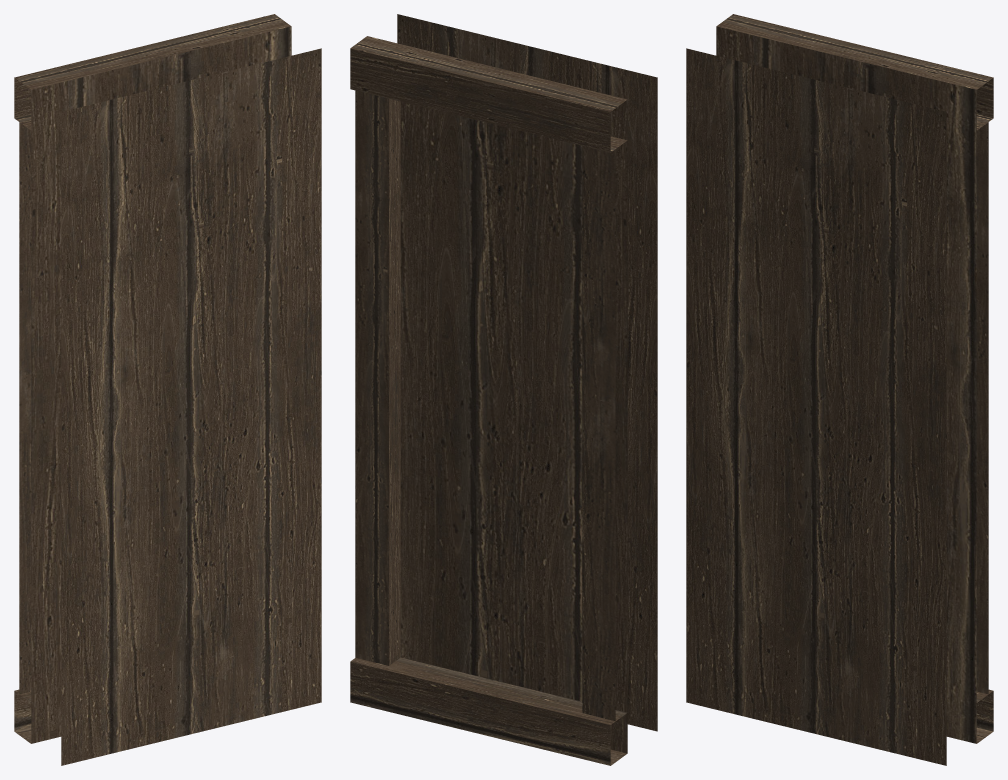
File: ARC1010288.fbx
The picture shows the model from 3 angles, left to right: view 1: azimuth 30°, elevation 25°; view 2: azimuth 150°, elevation 25°; view 3: azimuth 330°, elevation 25°; orthographic projection.
Visible parts, largest first — view 1: smARC1010288; view 2: smARC1010288; view 3: smARC1010288.
Part boxes in pixels (x1,y1,x2,y2): smARC1010288: [14, 14, 321, 765]; smARC1010288: [350, 14, 657, 765]; smARC1010288: [686, 14, 993, 765].
Bounding box in the file's own units: 112 × 268 × 34.9.
Materials: 1 (1 with a texture image).
